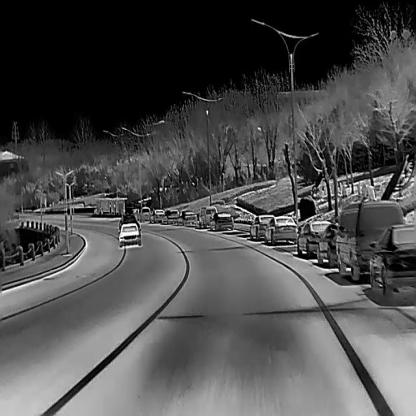car: (336, 201, 403, 278), (370, 223, 415, 295), (297, 220, 330, 254), (264, 216, 298, 243), (317, 223, 336, 265), (249, 214, 274, 239), (118, 223, 140, 246), (210, 211, 234, 230), (198, 206, 216, 226), (119, 214, 139, 231), (177, 210, 197, 224), (161, 209, 179, 223), (136, 206, 149, 221), (149, 209, 164, 221)
